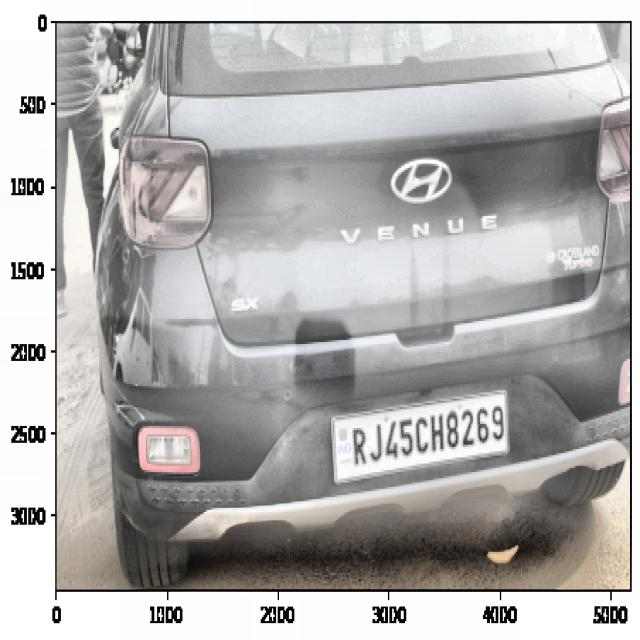license_plate: (346, 397, 506, 472)
